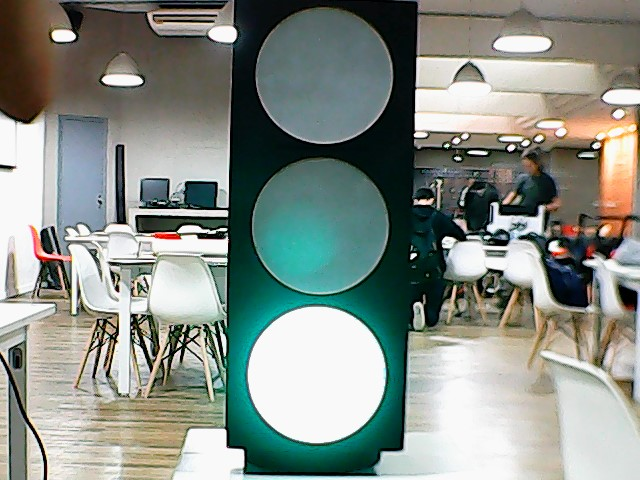verde: (219, 1, 416, 451)
